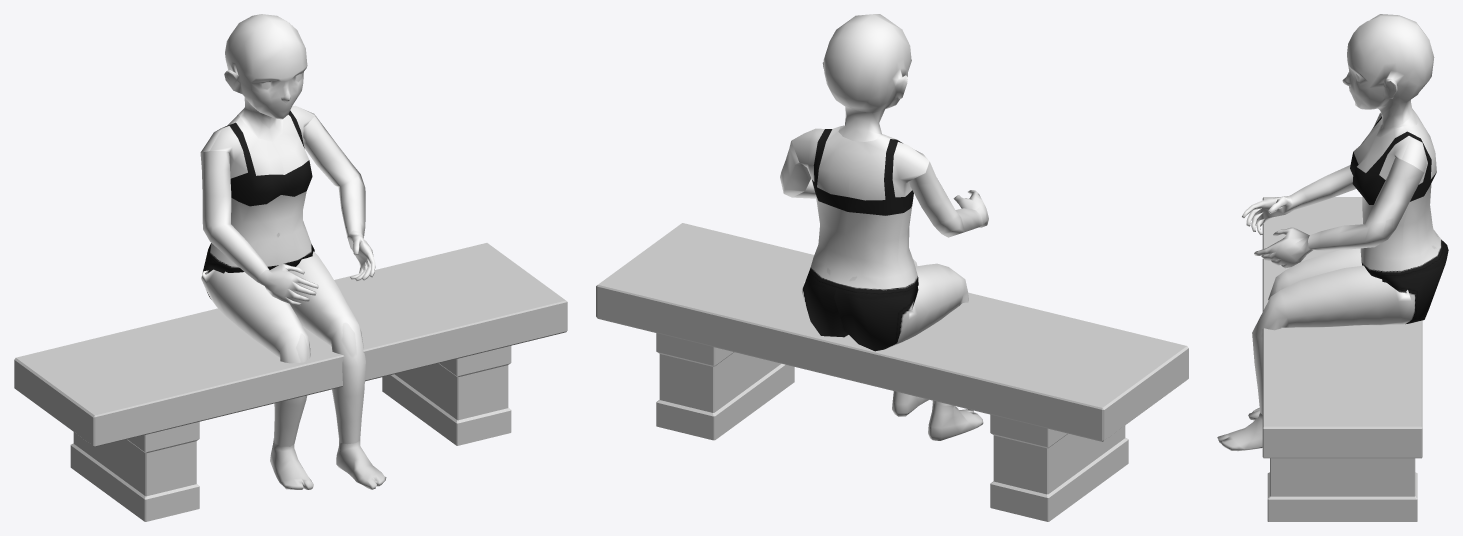
File: park_bench_marble_slab02.glb
3 views of the same model, side by side, from view 1: azimuth 30°, elevation 25°; view 2: azimuth 150°, elevation 25°; view 3: azimuth 270°, elevation 25° (orthographic). The views are drawn at different scales.
Parts seen in each view (by area): view 1: Cube, SeatedFemale_Obj; view 2: Cube, SeatedFemale_Obj; view 3: SeatedFemale_Obj, Cube.
Part boxes in pixels (x1,y1,x2,y2): Cube: (14,243,567,521); SeatedFemale_Obj: (200,14,386,489); Cube: (596,223,1188,521); SeatedFemale_Obj: (780,14,988,440); SeatedFemale_Obj: (1217,14,1448,451); Cube: (1262,197,1422,521).
Bounding box in the file's own units: 1.84 × 1.54 × 0.7778.
Materials: 1 (1 with a texture image).
